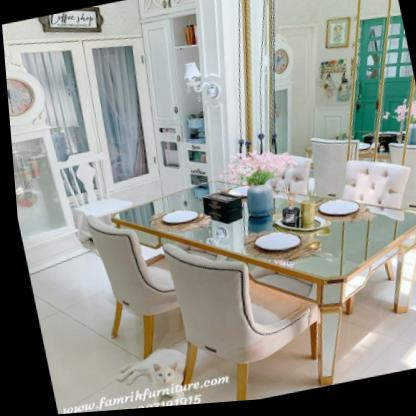Dining Table: (57, 130, 416, 405)
